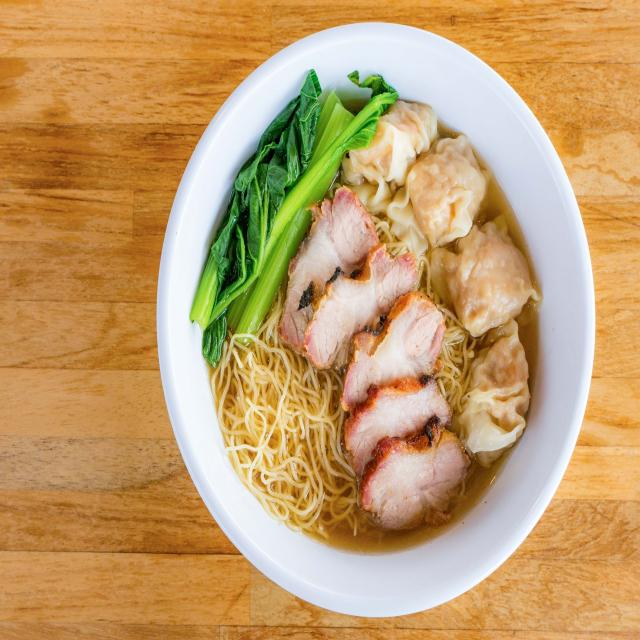Carbohydrate: (211, 212, 471, 536)
Noodle: (168, 31, 567, 608)
Protein: (354, 91, 536, 463), (286, 193, 468, 538)
Vegetable: (191, 66, 401, 353)
